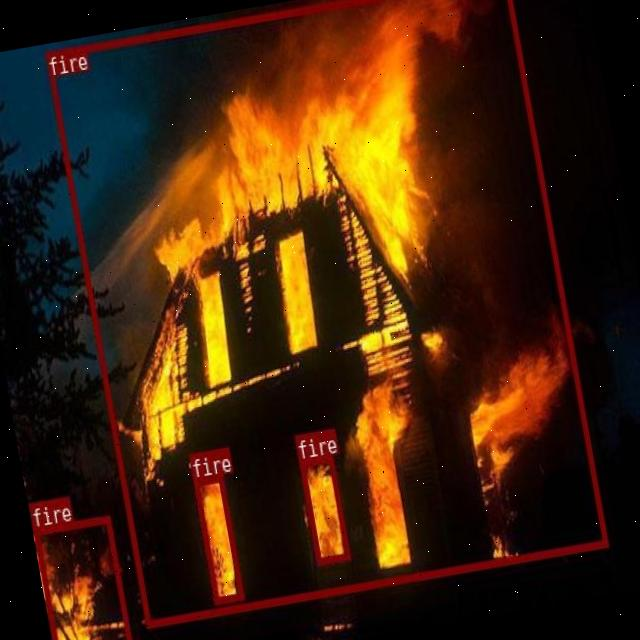fire: (44, 0, 606, 626), (33, 514, 135, 640), (192, 472, 243, 602), (297, 453, 348, 562)
